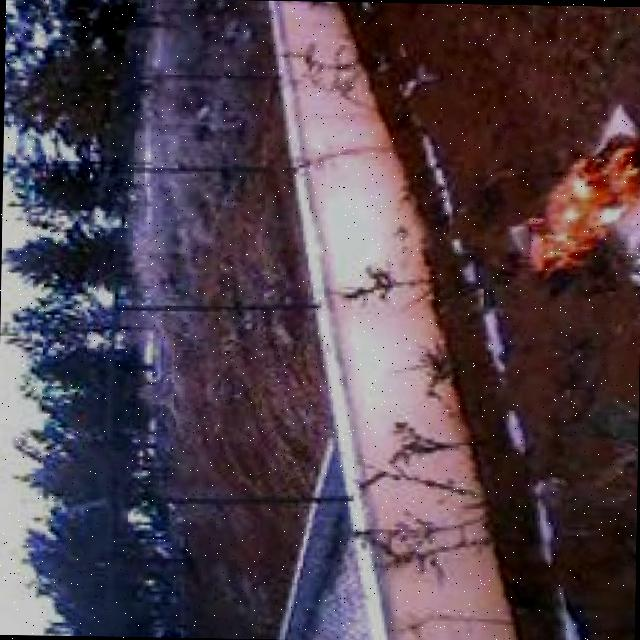fire: (530, 130, 640, 268)
